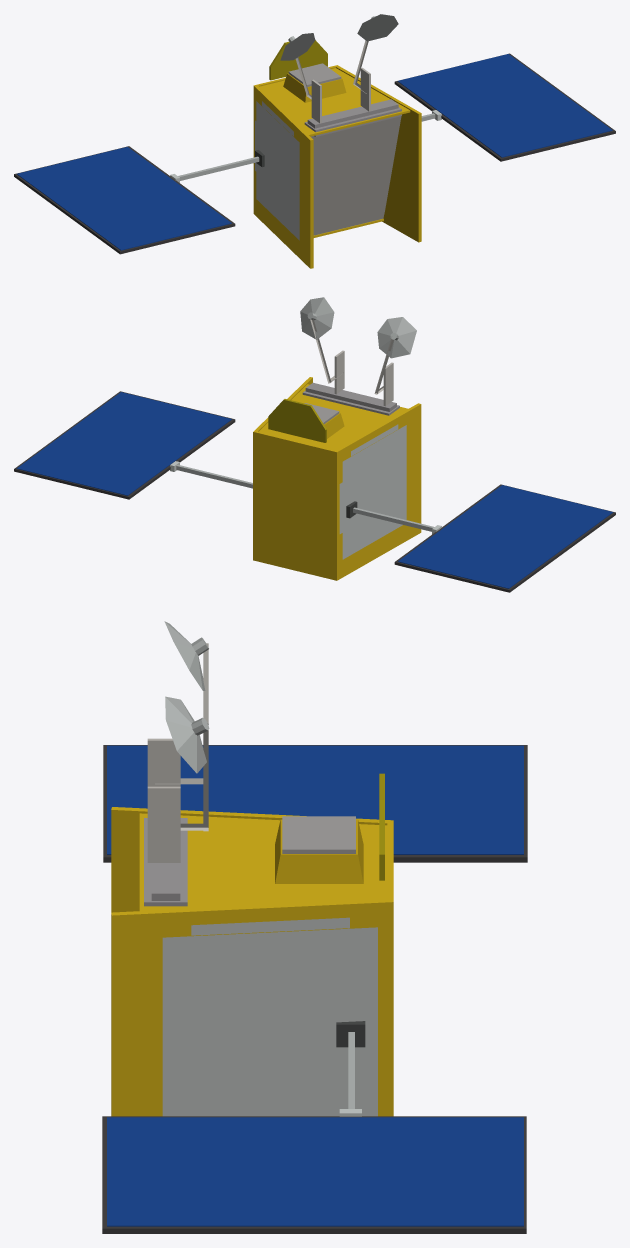
Rendered from oneweb_med.gltf.
3 views of the same model, one above another, from view 1: azimuth 30°, elevation 25°; view 2: azimuth 150°, elevation 25°; view 3: azimuth 270°, elevation 25° (orthographic). The views are drawn at different scales.
Parts seen in each view (by area): view 1: Cube.175, Cube.024, Cube.220, Cube, Cube.016, Cube.001, Cube.121, Cube.021, Cube.019, Cube.009, Cube.003, Cone (+6 smaller); view 2: Cube, Cube.175, Cube.024, Cube.016, Cube.001, Cube.019, Cube.121, Cube.021, Cone.001, Cone, Cube.009, Cube.120 (+4 smaller); view 3: Cube.024, Cube.013, Cube.175, Cube, Cube.001, Cube.021, Cube.003, Cube.004, Cube.028, Cube.121, Cube.014, Cone (+4 smaller).
Boxes of the visible parts, bbox=[...] form: Cube.175: bbox=[17, 147, 231, 250]; Cube.024: bbox=[397, 54, 612, 157]; Cube.220: bbox=[310, 116, 401, 235]; Cube: bbox=[253, 65, 421, 268]; Cube.016: bbox=[256, 101, 299, 240]; Cube.001: bbox=[259, 68, 410, 136]; Cube.121: bbox=[14, 146, 235, 254]; Cube.021: bbox=[394, 53, 615, 161]; Cube.019: bbox=[269, 40, 327, 80]; Cube.009: bbox=[307, 99, 398, 128]; Cube.003: bbox=[283, 73, 346, 102]; Cone: bbox=[357, 14, 398, 41]; Cube: bbox=[253, 377, 421, 580]; Cube.175: bbox=[398, 485, 613, 588]; Cube.024: bbox=[16, 392, 231, 495]; Cube.016: bbox=[342, 425, 406, 559]; Cube.001: bbox=[259, 384, 408, 450]; Cube.019: bbox=[268, 399, 326, 442]; Cube.121: bbox=[394, 484, 615, 592]; Cube.021: bbox=[14, 391, 235, 499]; Cone.001: bbox=[377, 317, 416, 358]; Cone: bbox=[300, 297, 334, 339]; Cube.009: bbox=[305, 382, 396, 411]; Cube.120: bbox=[353, 507, 434, 531]; Cube.024: bbox=[107, 1117, 523, 1226]; Cube.013: bbox=[162, 927, 377, 1116]; Cube.175: bbox=[107, 745, 523, 854]; Cube: bbox=[111, 807, 393, 1116]; Cube.001: bbox=[139, 813, 387, 910]; Cube.021: bbox=[102, 1116, 526, 1233]; Cube.003: bbox=[275, 819, 363, 883]; Cube.004: bbox=[282, 816, 355, 853]; Cube.028: bbox=[147, 786, 180, 862]; Cube.121: bbox=[103, 745, 527, 862]; Cube.014: bbox=[191, 917, 349, 935]; Cone: bbox=[165, 696, 206, 773].
Size of the model in its own units: 8.08 by 3.5 by 3.
